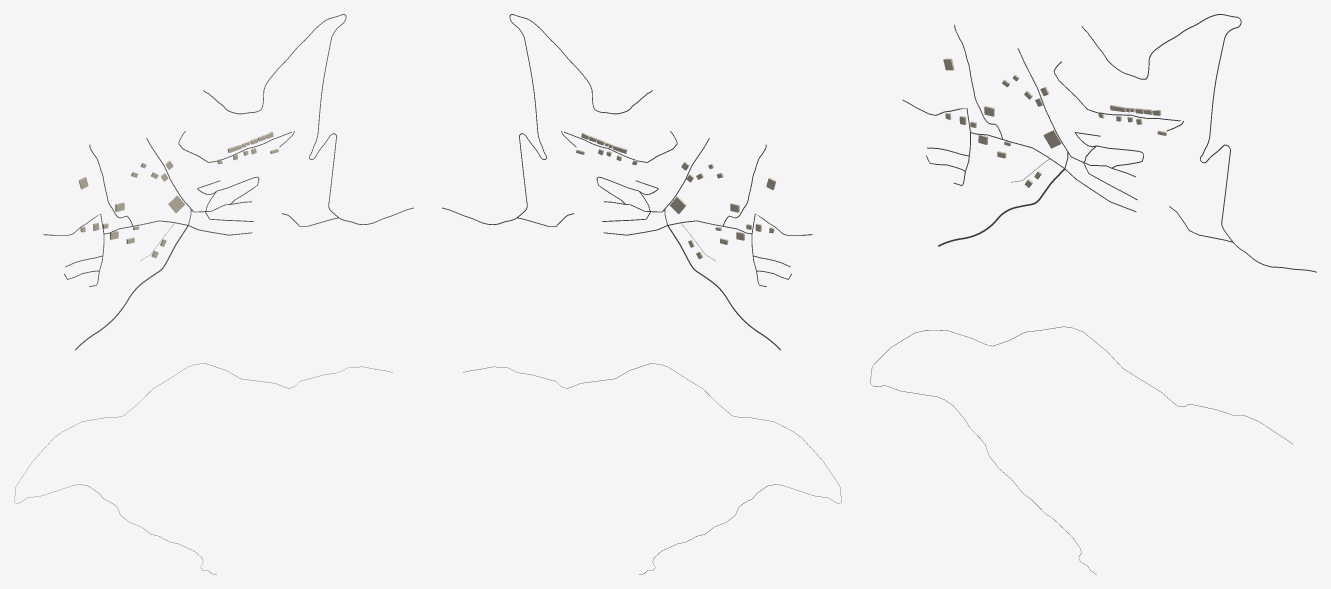
Rendered from historic-palestine-11_28_3525_3220.glb.
The picture shows the model from 3 angles, left to right: view 1: azimuth 30°, elevation 25°; view 2: azimuth 150°, elevation 25°; view 3: azimuth 330°, elevation 25°; orthographic projection. The views are drawn at different scales.
Visible parts, largest first — view 1: Road فطاير, Road .016; view 2: Road فطاير, Road .016; view 3: Road فطاير, Road .016.
Boxes of the visible parts, x1,y1,x2,y2 form: Road فطاير: [203, 14, 413, 224]; Road .016: [14, 363, 392, 574]; Road فطاير: [442, 14, 652, 224]; Road .016: [463, 363, 841, 574]; Road فطاير: [1081, 14, 1316, 272]; Road .016: [870, 326, 1292, 574].
Size of the model in its own units: 1548 by 1961 by 8.7.
